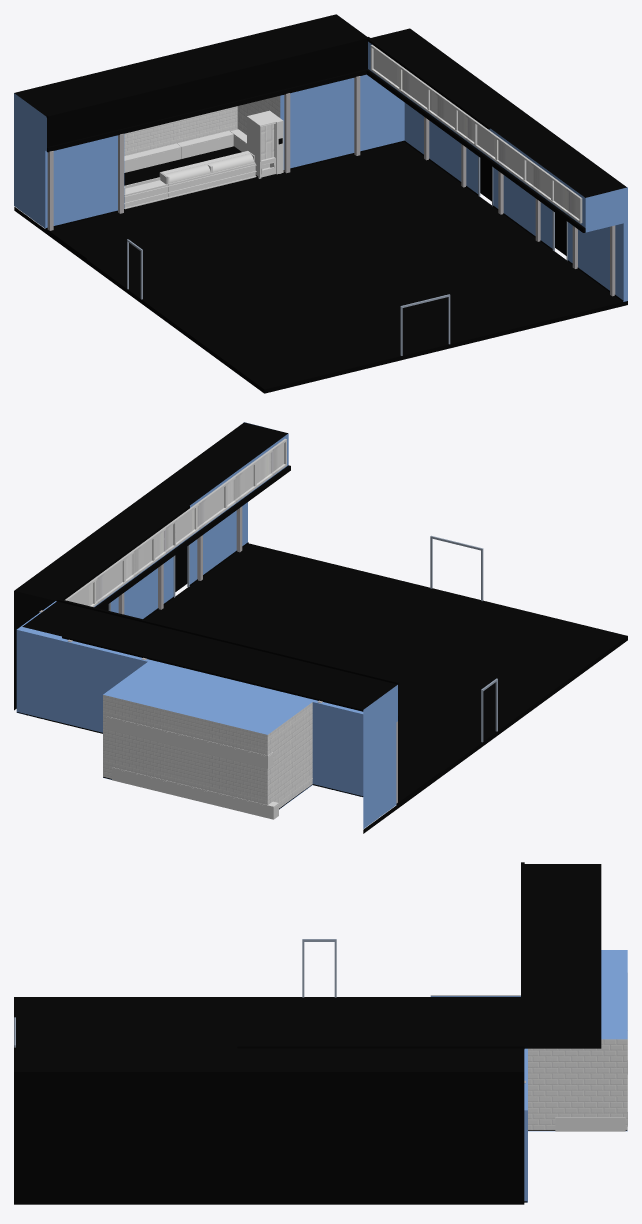
The model's file is Room_Cafeteria.fbx.
The picture shows the model from 3 angles, top to bottom: view 1: azimuth 30°, elevation 25°; view 2: azimuth 150°, elevation 25°; view 3: azimuth 270°, elevation 25°; orthographic projection. The views are drawn at different scales.
Visible parts, largest first — view 1: Cafeteria_Base; view 2: Cafeteria_Base; view 3: Cafeteria_Base.
Boxes of the visible parts, box(x1,y1,x2,y2) form: Cafeteria_Base: box(14, 14, 627, 393); Cafeteria_Base: box(14, 422, 627, 833); Cafeteria_Base: box(14, 862, 627, 1204).
Size of the model in its own units: 8560 by 2677 by 10676.
Materials: 7 (1 with a texture image).
